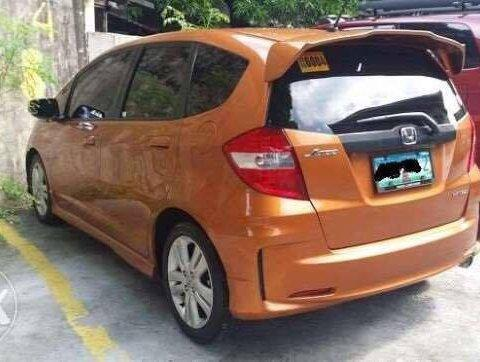Hatchback: (16, 13, 480, 348)
